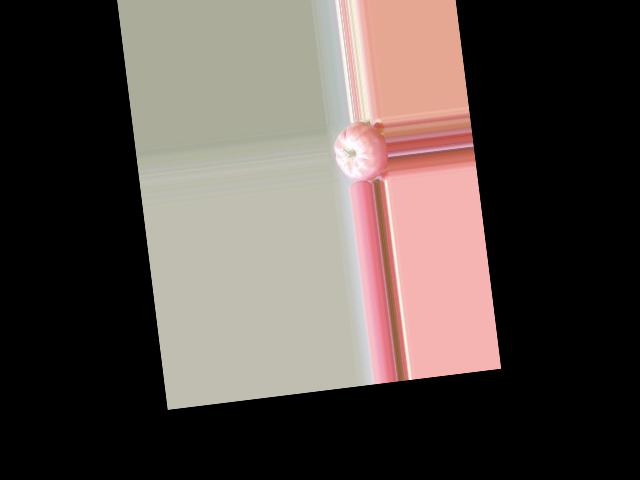tomato: (331, 118, 391, 184)
